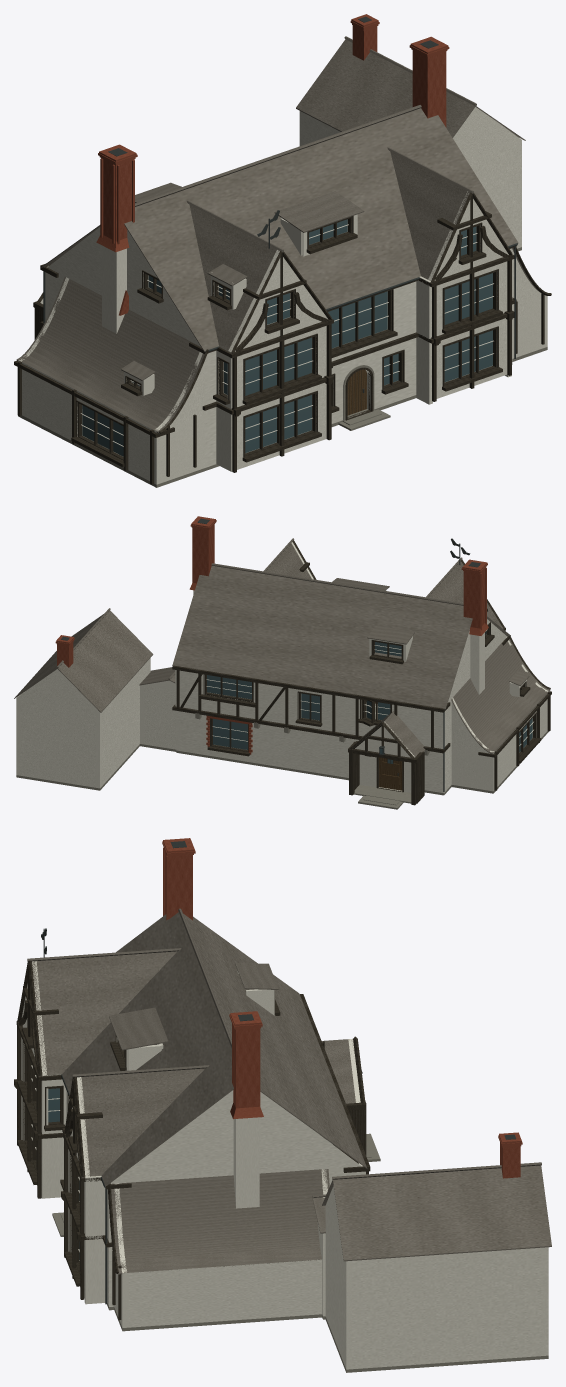
The model's file is changning-hudec-residence-lod.glb.
3 views of the same model, one above another, from view 1: azimuth 30°, elevation 25°; view 2: azimuth 150°, elevation 25°; view 3: azimuth 270°, elevation 25° (orthographic). The views are drawn at different scales.
Size of the model in its own units: 29.58 by 14.08 by 24.15.
11 materials, 11 textured.
